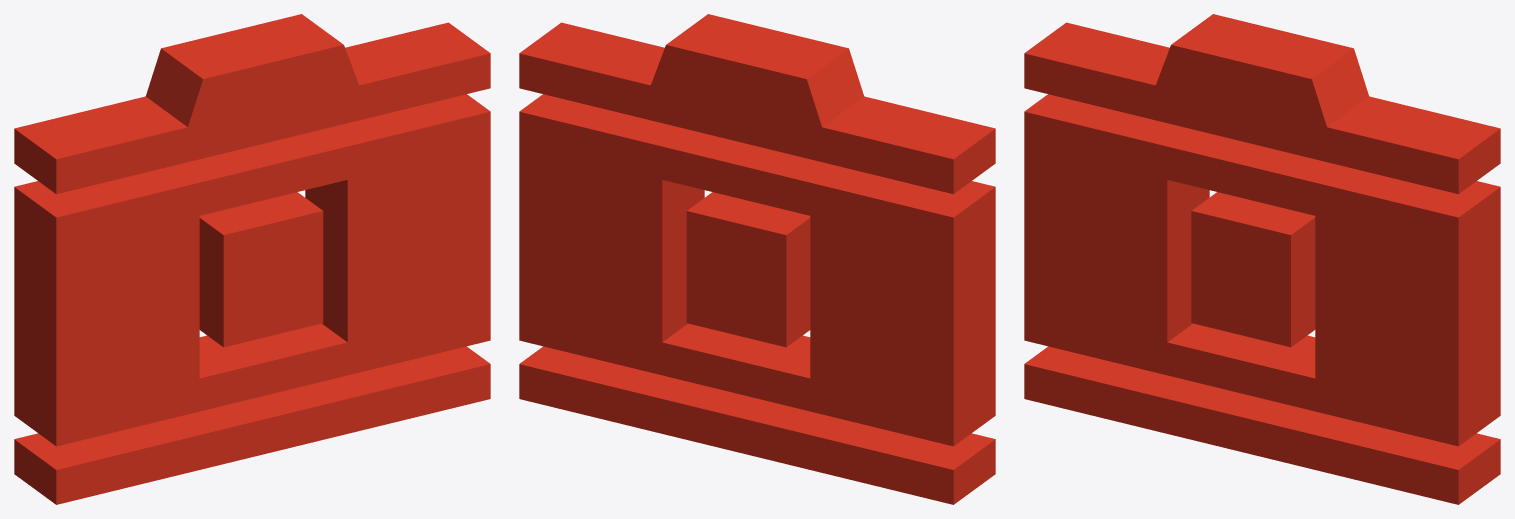
File: Icon_Camera_01.fbx
3 renders of one model, left to right at view 1: azimuth 30°, elevation 25°; view 2: azimuth 150°, elevation 25°; view 3: azimuth 330°, elevation 25°, orthographic.
Parts seen in each view (by area): view 1: Icon_Camera_01; view 2: Icon_Camera_01; view 3: Icon_Camera_01.
Boxes of the visible parts, <box> form: Icon_Camera_01: <box>14,14,490,504</box>; Icon_Camera_01: <box>519,14,995,504</box>; Icon_Camera_01: <box>1024,14,1500,504</box>.
Bounding box in the file's own units: 71.76 × 61.56 × 12.06.
